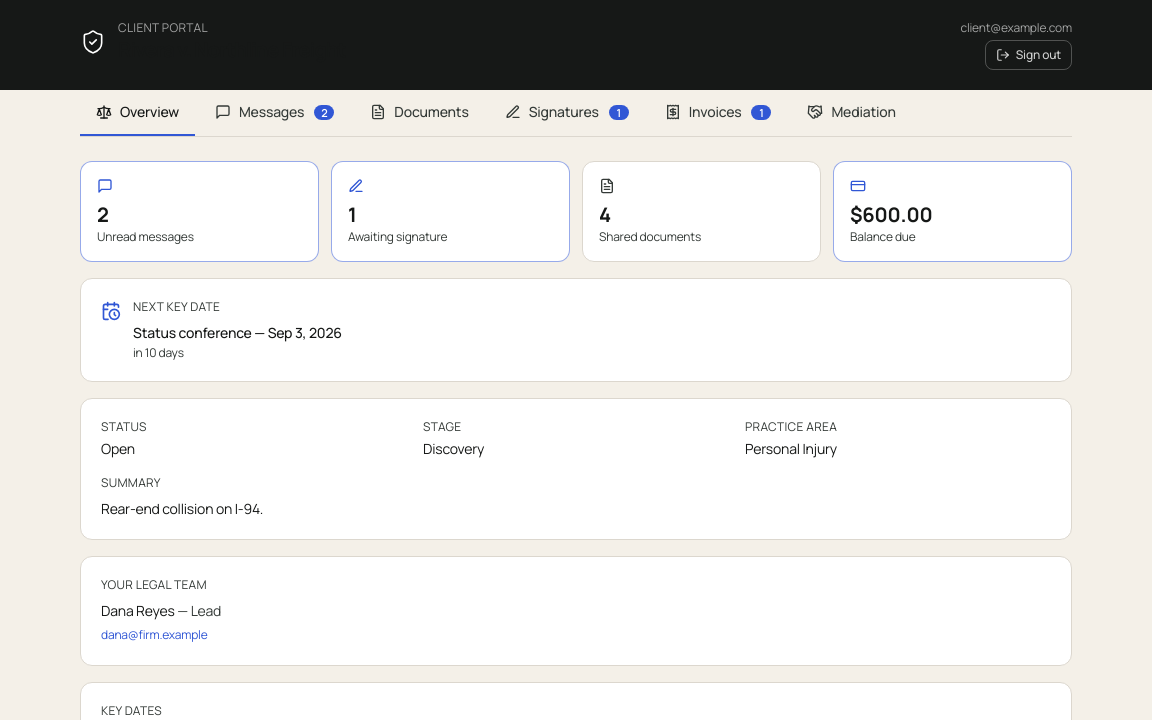
Test: ClientPortalMatterPage › shows the optional read-only mediation overlay without changing the base portal
The image size is (1152, 720).
Step 1. Click the tab "Mediation" → (852, 113), box [792, 90, 912, 136]
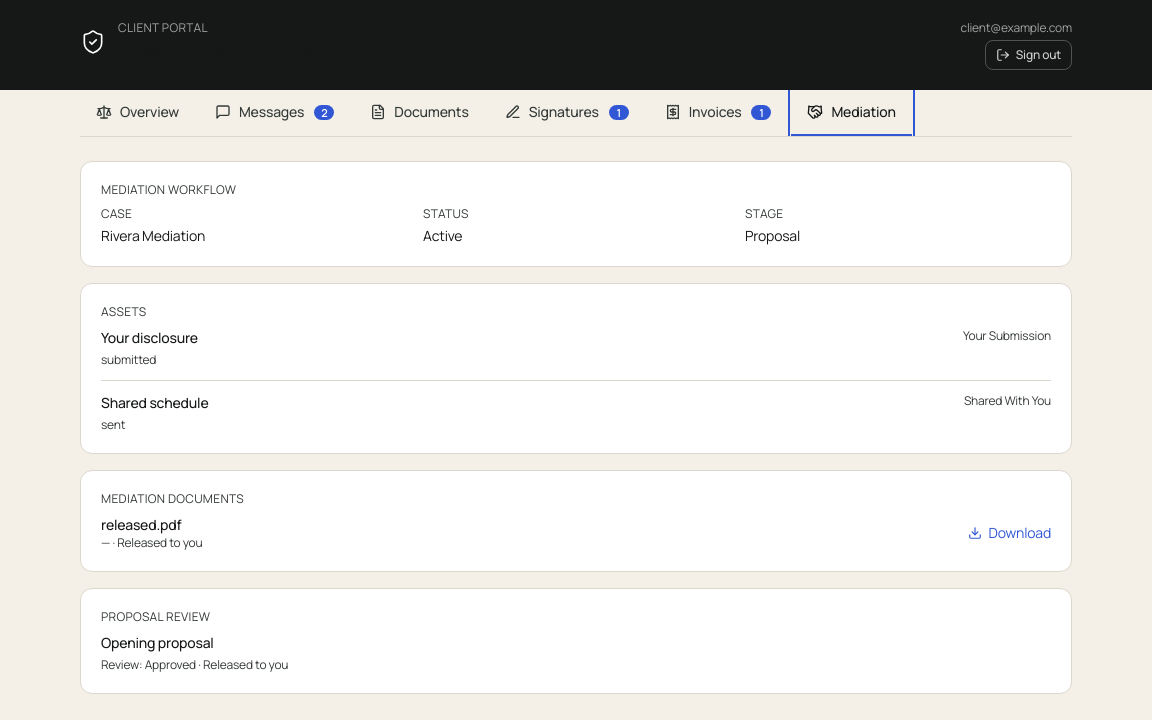
Now the text "Rivera mediation" is shown, box [101, 226, 205, 245]
Now the text "Your disclosure" is shown, box [101, 328, 198, 348]
Now the text "Shared schedule" is shown, box [101, 393, 208, 413]
